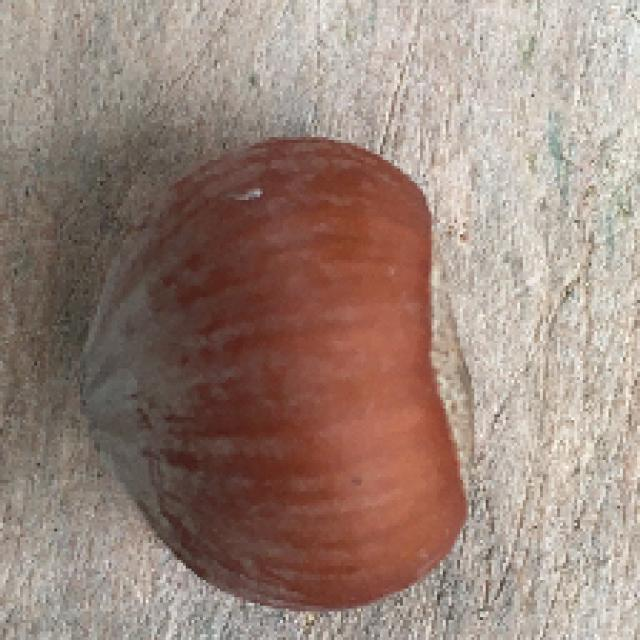qualityHazelnut: (68, 130, 482, 612)
